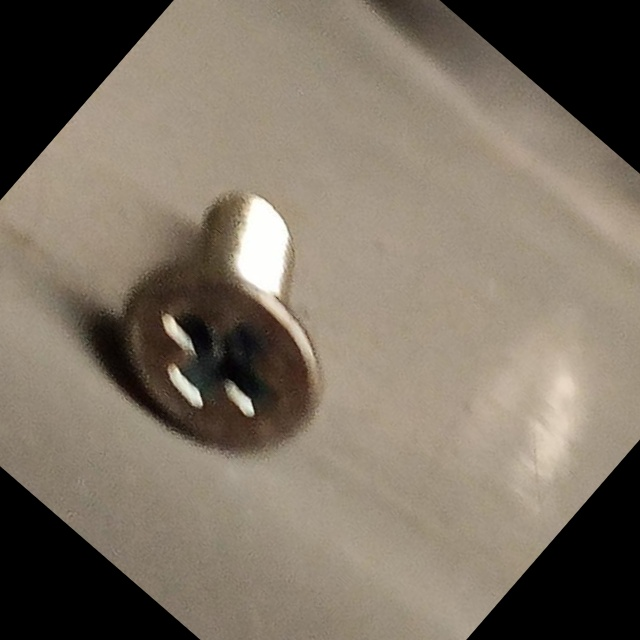phillips: (80, 223, 362, 499)
